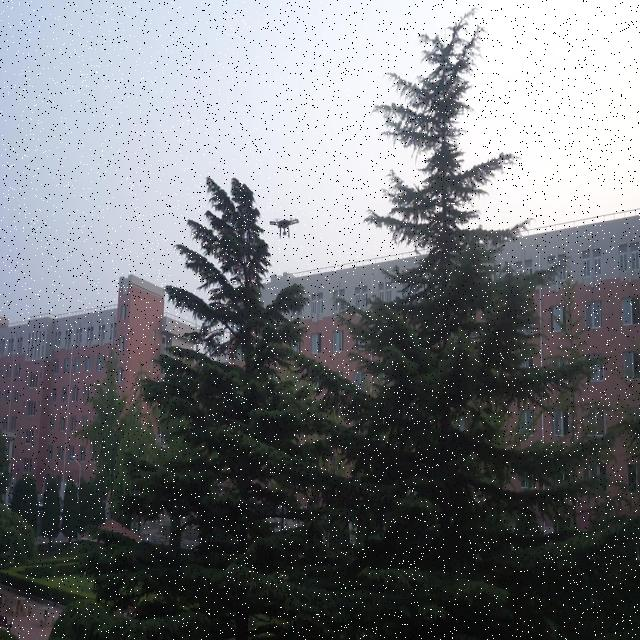UAV: (269, 217, 300, 239)
